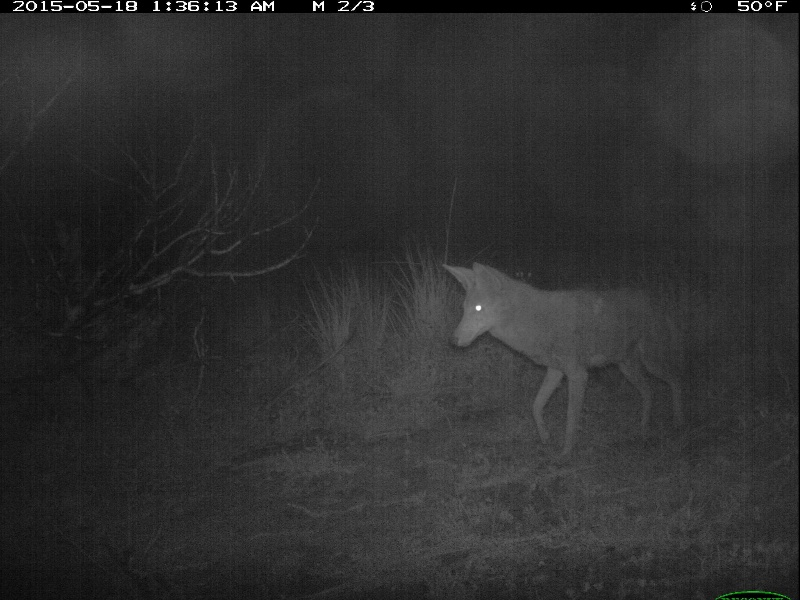coyote: (437, 251, 769, 466)
